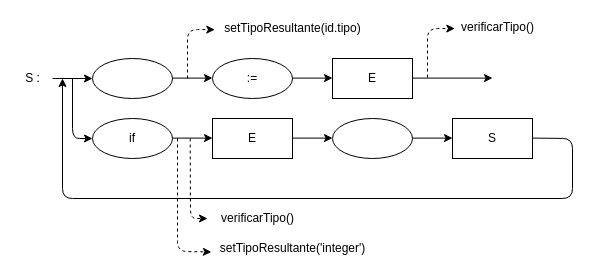
The diagram is 598 pixels wide and 277 high, and some of its shapes have lost their labels. Each missing label, with the box of its shape:
id: (92, 58, 172, 98)
then: (332, 118, 412, 158)
